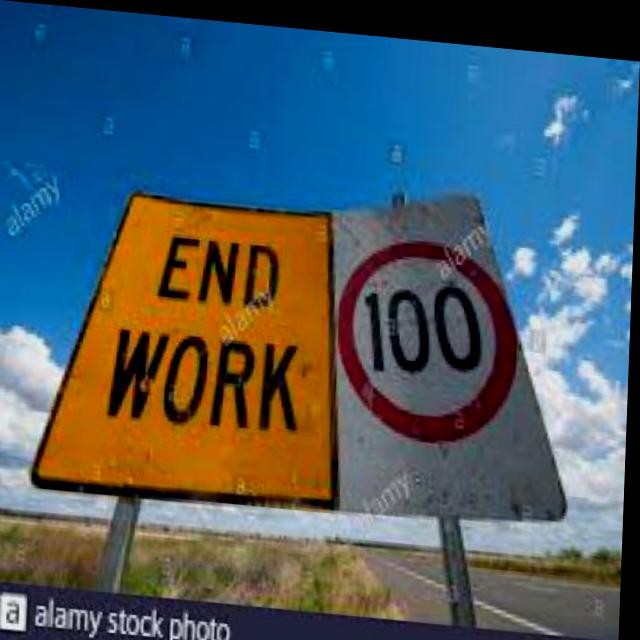limit100: (313, 216, 534, 449)
